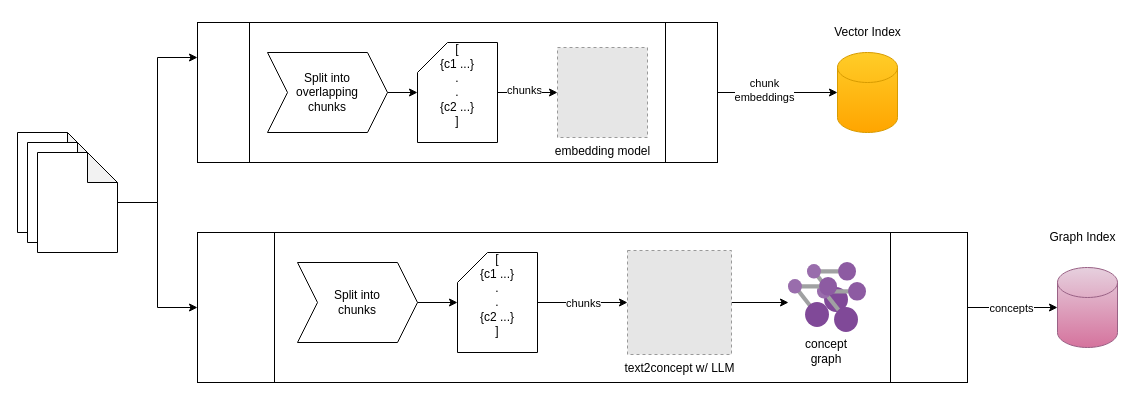
Some shapes in this 1145 by 400 pixel diagram are drawn without their labels. Grey dashed boxes stand in for pictures. Each missing label, with the centre of its shape:
documents for chat: (77,202)
in-memory graph store: (1087,307)
in-memory vector store: (867,92)
